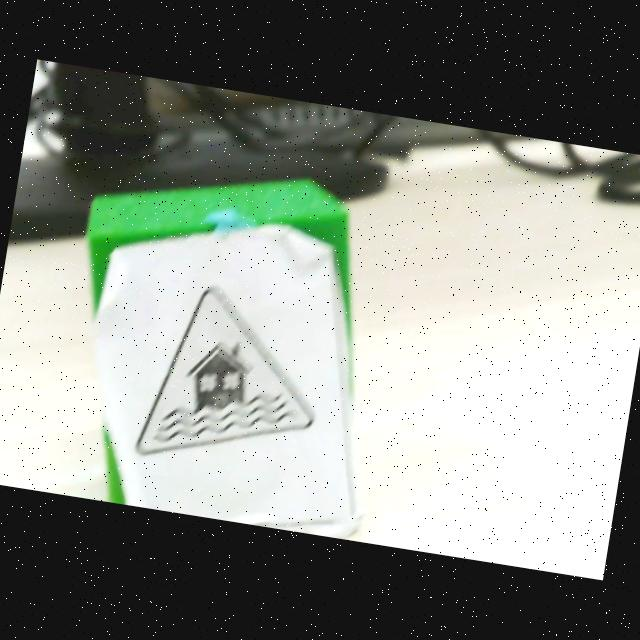Tsunami: (136, 287, 314, 456)
